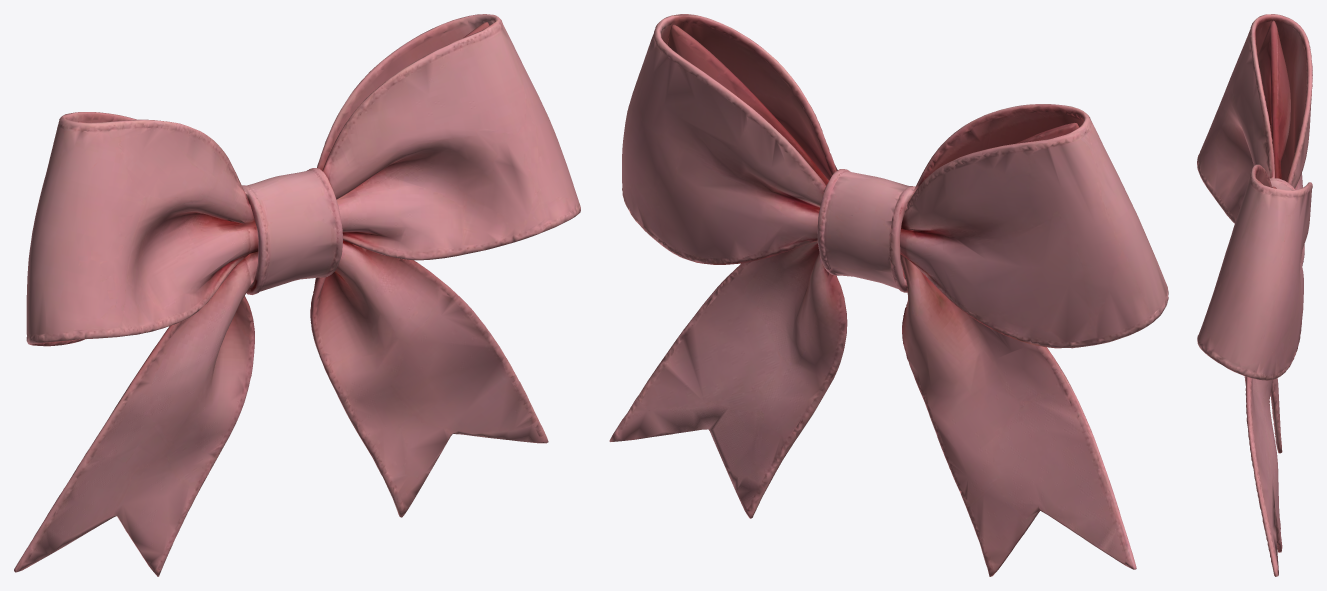
File: fl-ribbon-satin-bow.glb
The picture shows the model from 3 angles, left to right: view 1: azimuth 30°, elevation 25°; view 2: azimuth 150°, elevation 25°; view 3: azimuth 270°, elevation 25°; orthographic projection. The views are drawn at different scales.
Parts seen in each view (by area): view 1: node_0; view 2: node_0; view 3: node_0.
Boxes of the visible parts, box(x1,y1,x2,y2) form: node_0: box(14, 14, 580, 576); node_0: box(609, 14, 1168, 576); node_0: box(1197, 14, 1312, 576).
Size of the model in its own units: 0.9939 by 0.8397 by 0.2191.
1 material, 1 textured.
